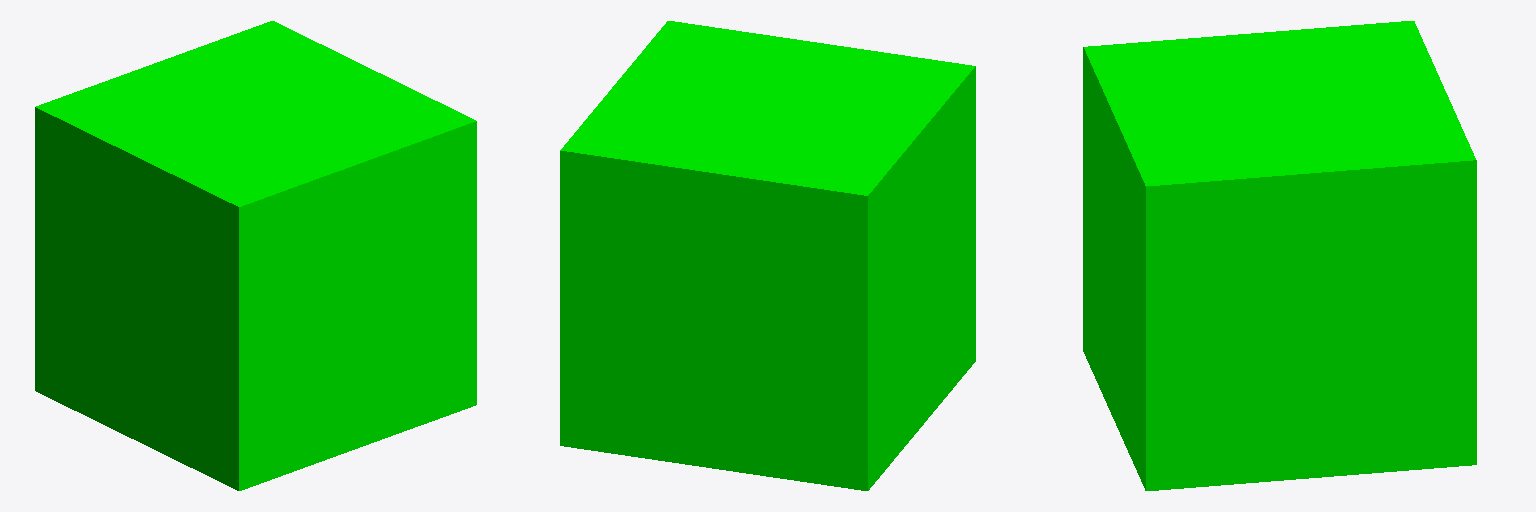
robot.urdf — cube_3:
<?xml version='1.0'?>
<robot name='cube_3'>
	<link name='world'/>
	<joint name='world_joint' type='floating'>
		<parent link='world'/>
		<child link='cube'/>
		<origin xyz='0 0 0' rpy='0 0 0'/>
	</joint>
	<link name='cube'>
		<visual>
			<origin xyz='0.3 0.0 0.015' rpy='0 0 0.18670080983911874'/>
			<geometry>
				<box size='0.03 0.03 0.03' />
			</geometry>
			<material name='Green'>
				<color rgba='0 1 0 1' />
			</material>
		</visual>
		<collision>
			<origin xyz='0.3 0.0 0.015' rpy='0 0 0.18670080983911874'/>
			<geometry>
				<box size='0.03 0.03 0.03' />
			</geometry>
		</collision>
		<inertial>
			<origin xyz='0.3 0.0 0.015' rpy='0 0 0.18670080983911874'/>
			<mass value='0.03' />
			<inertia 
				ixx='4.5e-06' 
				ixy='0.0' 
				ixz='0.0' 
				iyy='4.5e-06' 
				iyz='0.0' 
				izz='4.5e-06' />
		</inertial>
	</link>
	<gazebo reference='cube'>
		<material>Gazebo/Green</material>
	</gazebo>
</robot>

--- What the picture shows (computed from the rendered views, not written in the file) ---
The picture shows the robot from 3 angles, left to right: view 1: azimuth 30°, elevation 25°; view 2: azimuth 150°, elevation 25°; view 3: azimuth 270°, elevation 25°; orthographic projection.
Robot: cube_3 — 2 links, 1 joints (1 floating); root link world; default pose: every joint at zero.
Visible links, largest first — view 1: cube; view 2: cube; view 3: cube.
Link boxes in pixels (left/top/right/bottom): cube: left=35, top=21, right=476, bottom=490; cube: left=560, top=21, right=975, bottom=490; cube: left=1083, top=21, right=1476, bottom=490.
Size in the robot's own frame: 0.035 by 0.035 by 0.03 metres.
Geometry: primitives only (box / cylinder / sphere), no mesh files.